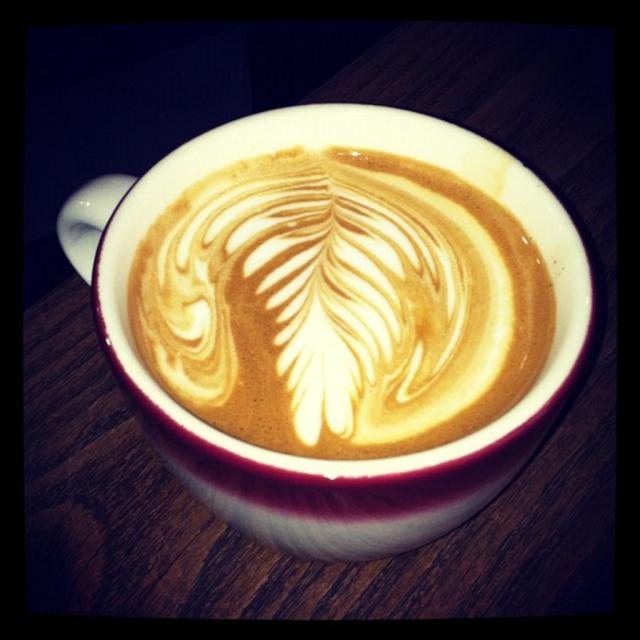Coffee: (131, 146, 556, 460)
